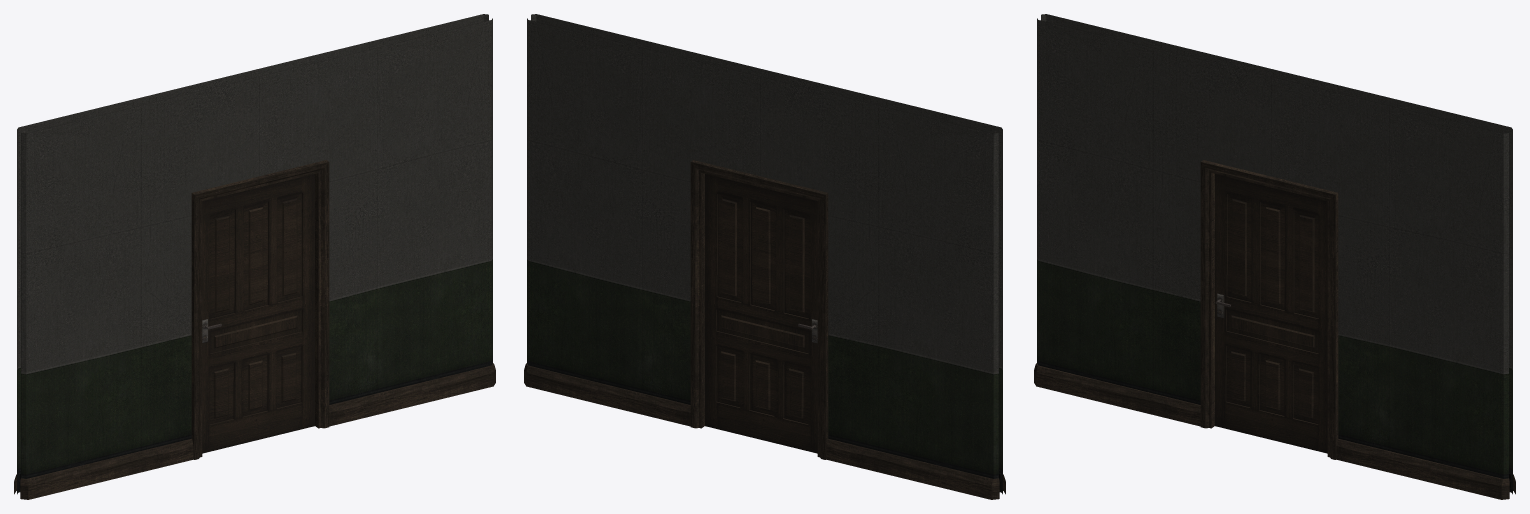
Rendered from doorway_2.obj.
3 renders of one model, left to right at view 1: azimuth 30°, elevation 25°; view 2: azimuth 150°, elevation 25°; view 3: azimuth 330°, elevation 25°, orthographic.
Visible parts, largest first — view 1: doorway_2, door_2; view 2: doorway_2, door_2; view 3: doorway_2, door_2.
Part boxes in pixels (<box>): doorway_2: <box>14,14,495,499</box>; door_2: <box>202,174,314,453</box>; doorway_2: <box>524,14,1005,499</box>; door_2: <box>705,174,817,453</box>; doorway_2: <box>1034,14,1515,499</box>; door_2: <box>1215,174,1327,453</box>.
Size of the model in its own units: 4.09 by 3 by 0.2.
